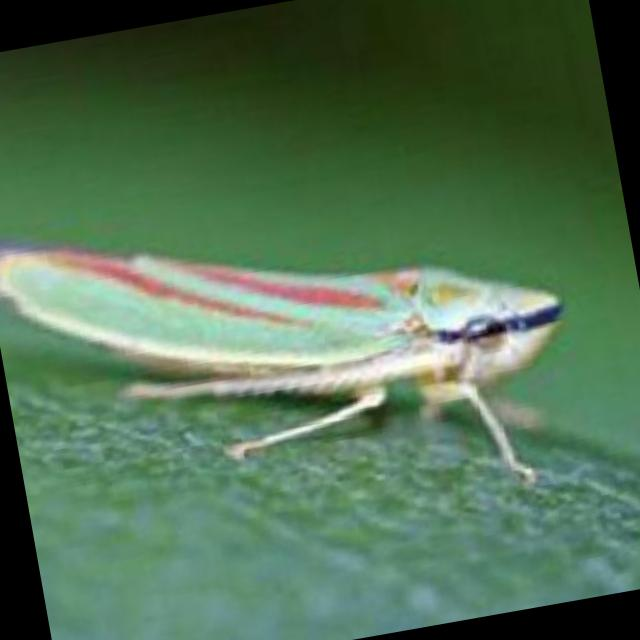green-leafhopper: (0, 165, 548, 499)
